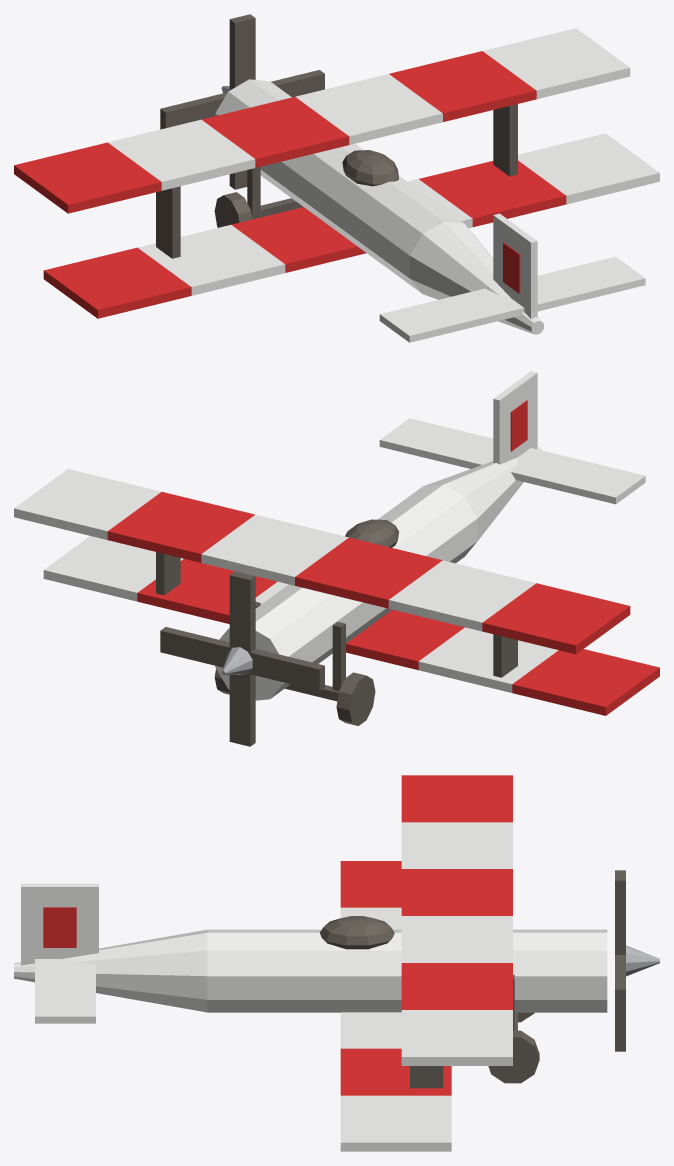
The model's file is boss-6-ghost.glb.
3 renders of one model, top to bottom at view 1: azimuth 30°, elevation 25°; view 2: azimuth 150°, elevation 25°; view 3: azimuth 270°, elevation 25°, orthographic. The views are drawn at different scales.
Visible parts, largest first — view 1: boss-6-ghost; view 2: boss-6-ghost; view 3: boss-6-ghost.
Part boxes in pixels (x1,y1,x2,y2): boss-6-ghost: (14,14,659,342); boss-6-ghost: (14,371,659,746); boss-6-ghost: (14,775,659,1151).
Bounding box in the file's own units: 6 × 1.73 × 5.81.
